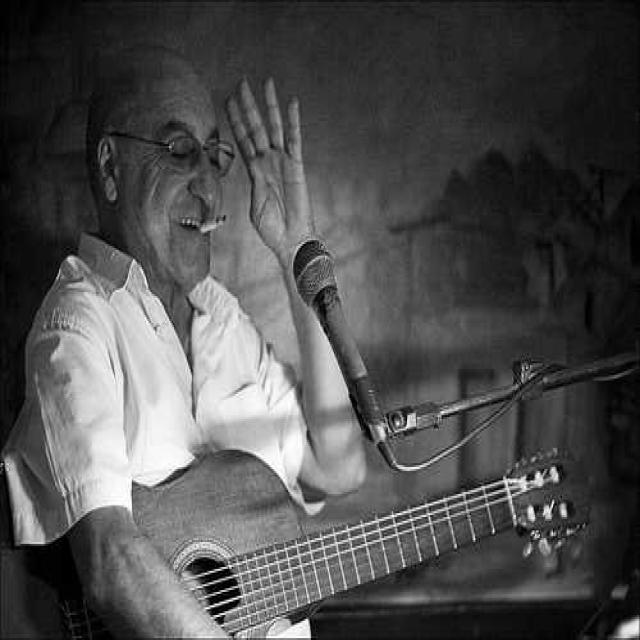microphone: (294, 239, 390, 441)
